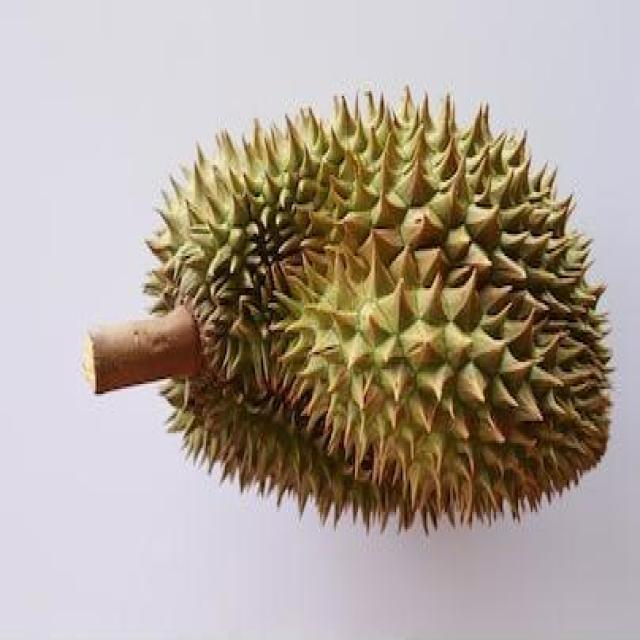mature: (143, 82, 613, 532)
